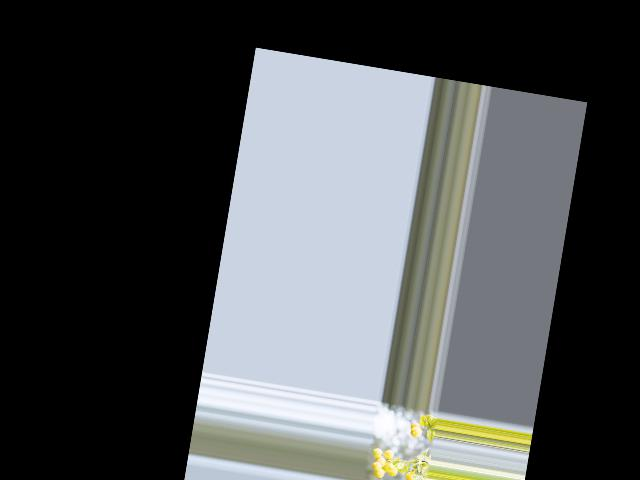lemon: (370, 465, 385, 478)
